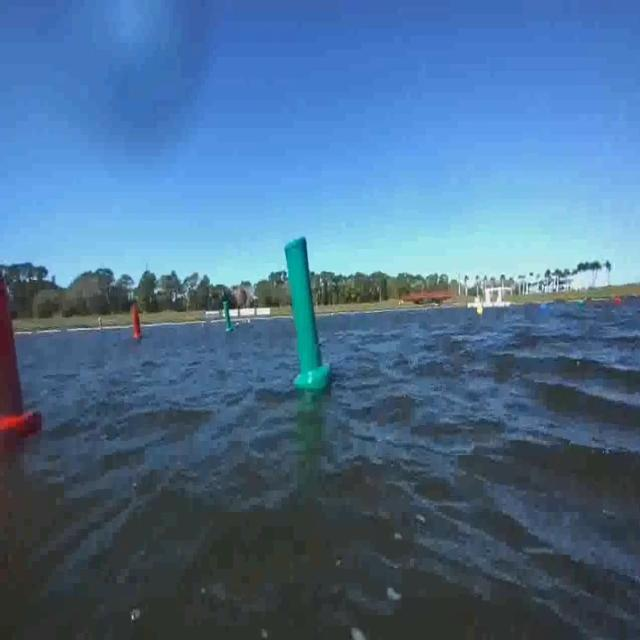blue-buoy: (541, 300, 549, 315)
green-column-buoy: (282, 237, 329, 396), (223, 304, 234, 335)
red-column-buoy: (0, 275, 41, 437), (132, 307, 144, 341)
yellow-buoy: (475, 304, 485, 317)
